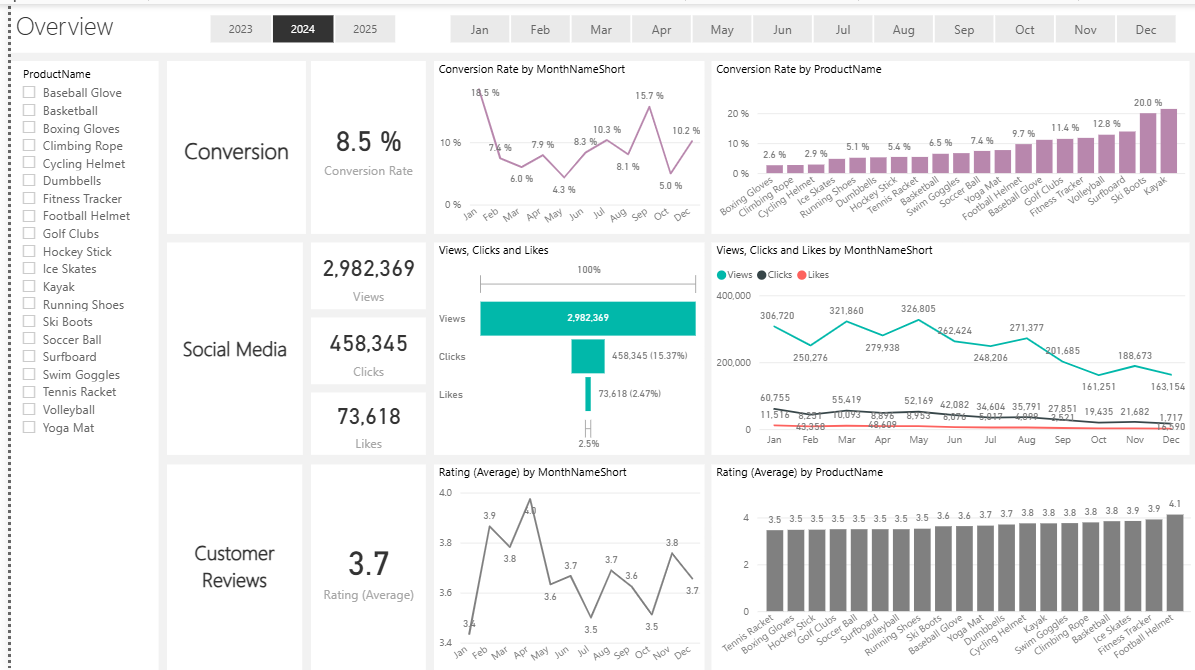

The dashboard page shown, as its layout file describes it:
{"tool":"powerbi","page":{"name":"Overview","canvas":[1280,720],"ordinal":0},"visuals":[{"type":"textbox","box":[0,0,1280,52.6],"z":0},{"type":"slicer","fields":{"Values":["dim_products.ProductName"]},"box":[0,61.6,159.5,658.5],"z":1000},{"type":"card","fields":{"Values":["_Calculations.Conversion Rate"]},"box":[324.1,61.9,123.9,186.8],"z":2000},{"type":"card","fields":{"Values":["_Calculations.Rating (Average)"]},"box":[324.1,496.5,123.9,224],"z":3000},{"type":"lineChart","fields":{"Y":["_Calculations.Conversion Rate"],"Category":["Calendar.MonthNameShort"]},"box":[457.1,61.9,292.3,186.7],"z":4000},{"type":"columnChart","fields":{"Category":["dim_products.ProductName"],"Y":["_Calculations.Conversion Rate"]},"box":[756.7,61.9,516.3,186.7],"z":5000},{"type":"slicer","fields":{"Values":["Calendar.Year"]},"box":[189.4,4.6,249.5,43.7],"z":6000},{"type":"slicer","fields":{"Values":["Calendar.MonthNameShort"]},"box":[448,4.6,832.3,43.7],"z":7000},{"type":"lineChart","fields":{"Y":["_Calculations.Views","_Calculations.Clicks","_Calculations.Likes"],"Category":["Calendar.MonthNameShort"]},"box":[756.6,258.1,516.1,229.2],"z":8000},{"type":"lineChart","fields":{"Category":["Calendar.MonthNameShort"],"Y":["_Calculations.Rating (Average)"]},"box":[457.1,496.3,292.3,224],"z":9000},{"type":"columnChart","fields":{"Category":["dim_products.ProductName"],"Y":["_Calculations.Rating (Average)"]},"box":[756.6,496.5,523.4,224],"z":10000},{"type":"funnel","fields":{"Y":["_Calculations.Views","_Calculations.Clicks","_Calculations.Likes"]},"box":[457.3,258.1,292.1,229.2],"z":11000},{"type":"card","fields":{"Values":["_Calculations.Views"]},"box":[324.2,257.7,123.8,71.9],"z":12000},{"type":"textbox","box":[168.5,61.9,150.3,186.7],"z":13000},{"type":"textbox","box":[168.5,257.7,146.6,229.5],"z":14000},{"type":"textbox","box":[168.5,496.3,145.7,224],"z":15000},{"type":"card","fields":{"Values":["_Calculations.Clicks"]},"box":[324.2,338.8,123.8,71.9],"z":16000},{"type":"card","fields":{"Values":["_Calculations.Likes"]},"box":[324.2,419.8,123.8,67.4],"z":17000}]}

Visuals, with their boxes in screenshot pixels (x1, y1, x2, y2), scaled from the page's 1280x720 canvas onto the 1195x670 screenshot:
textbox: {"x1": 0, "y1": 0, "x2": 1194, "y2": 49}
slicer - dim_products.ProductName: {"x1": 0, "y1": 57, "x2": 149, "y2": 669}
card - _Calculations.Conversion Rate: {"x1": 303, "y1": 58, "x2": 418, "y2": 231}
card - _Calculations.Rating (Average): {"x1": 303, "y1": 462, "x2": 418, "y2": 669}
lineChart - _Calculations.Conversion Rate x Calendar.MonthNameShort: {"x1": 427, "y1": 58, "x2": 700, "y2": 231}
columnChart - dim_products.ProductName x _Calculations.Conversion Rate: {"x1": 706, "y1": 58, "x2": 1188, "y2": 231}
slicer - Calendar.Year: {"x1": 177, "y1": 4, "x2": 410, "y2": 45}
slicer - Calendar.MonthNameShort: {"x1": 418, "y1": 4, "x2": 1194, "y2": 45}
lineChart - _Calculations.Views x _Calculations.Clicks: {"x1": 706, "y1": 240, "x2": 1188, "y2": 453}
lineChart - Calendar.MonthNameShort x _Calculations.Rating (Average): {"x1": 427, "y1": 462, "x2": 700, "y2": 669}
columnChart - dim_products.ProductName x _Calculations.Rating (Average): {"x1": 706, "y1": 462, "x2": 1194, "y2": 669}
funnel - _Calculations.Views x _Calculations.Clicks: {"x1": 427, "y1": 240, "x2": 700, "y2": 453}
card - _Calculations.Views: {"x1": 303, "y1": 240, "x2": 418, "y2": 307}
textbox: {"x1": 157, "y1": 58, "x2": 298, "y2": 231}
textbox: {"x1": 157, "y1": 240, "x2": 294, "y2": 453}
textbox: {"x1": 157, "y1": 462, "x2": 293, "y2": 669}
card - _Calculations.Clicks: {"x1": 303, "y1": 315, "x2": 418, "y2": 382}
card - _Calculations.Likes: {"x1": 303, "y1": 391, "x2": 418, "y2": 453}
